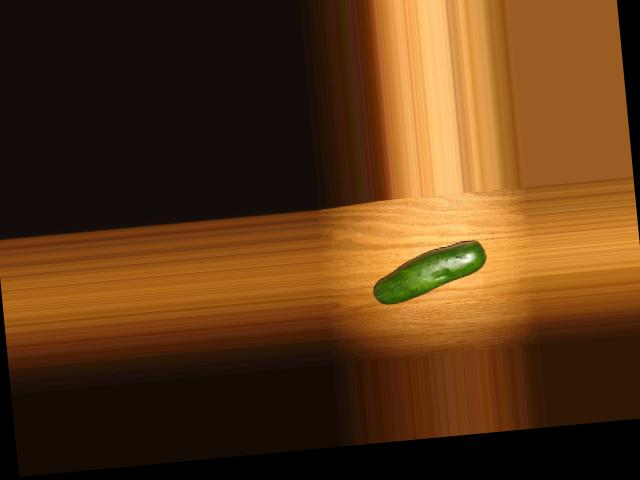cucumber: (368, 239, 488, 305)
